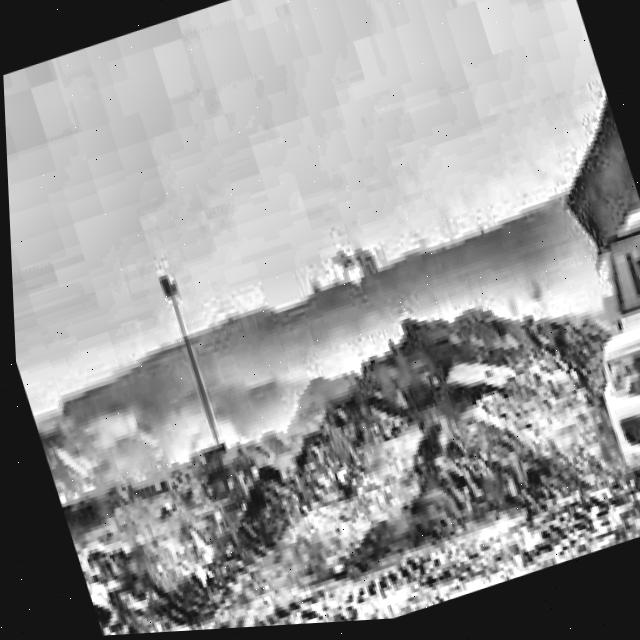light_vehicle: (546, 159, 640, 531)
